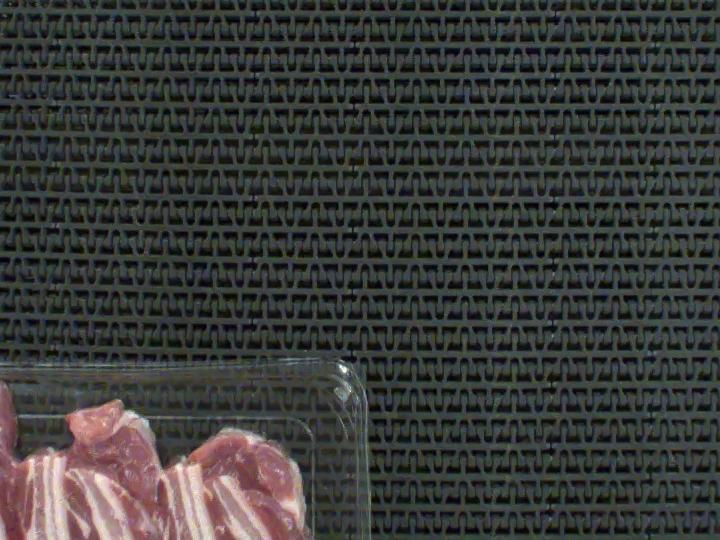loose-meat: (89, 400, 174, 540)
packaging-error: (0, 348, 120, 413)
